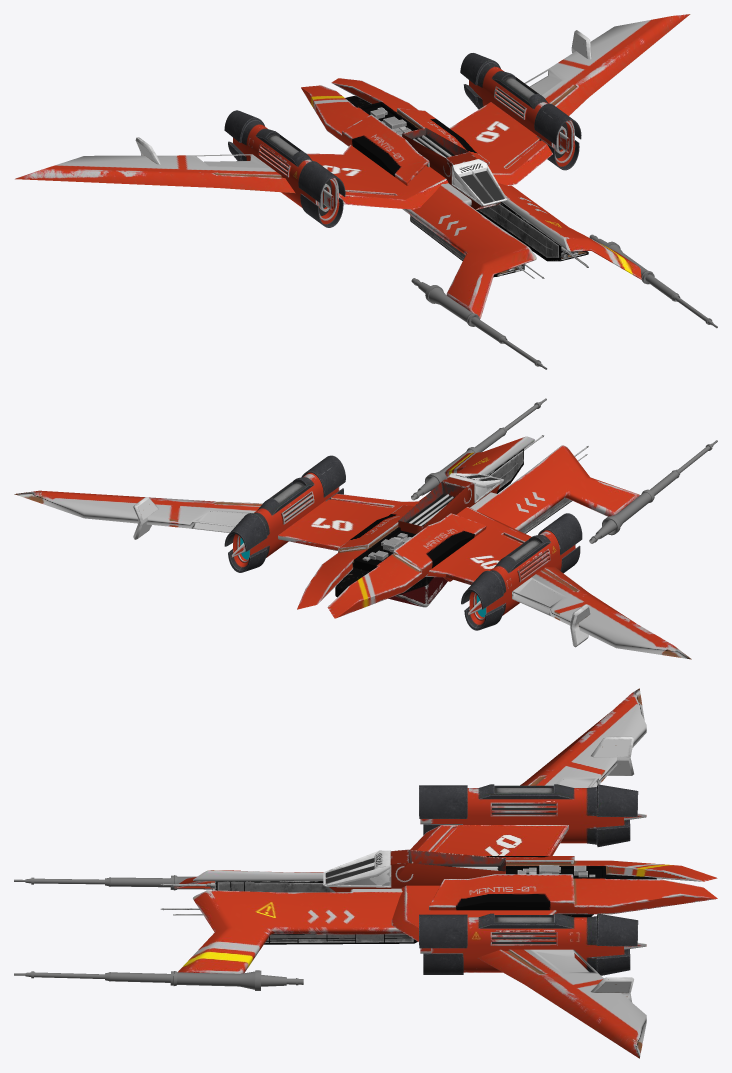
Rendered from mantis-07.glb.
3 views of the same model, one above another, from view 1: azimuth 30°, elevation 25°; view 2: azimuth 150°, elevation 25°; view 3: azimuth 270°, elevation 25° (orthographic). The views are drawn at different scales.
Visible parts, largest first — view 1: front.002; view 2: front.002; view 3: front.002.
Part boxes in pixels (x1=…): front.002: x1=15, y1=14, x2=717, y2=369; front.002: x1=14, y1=398, x2=717, y2=659; front.002: x1=14, y1=688, x2=717, y2=1058.
Bounding box in the file's own units: 38.73 × 4.46 × 31.08.
Materials: 15 (14 with a texture image).
